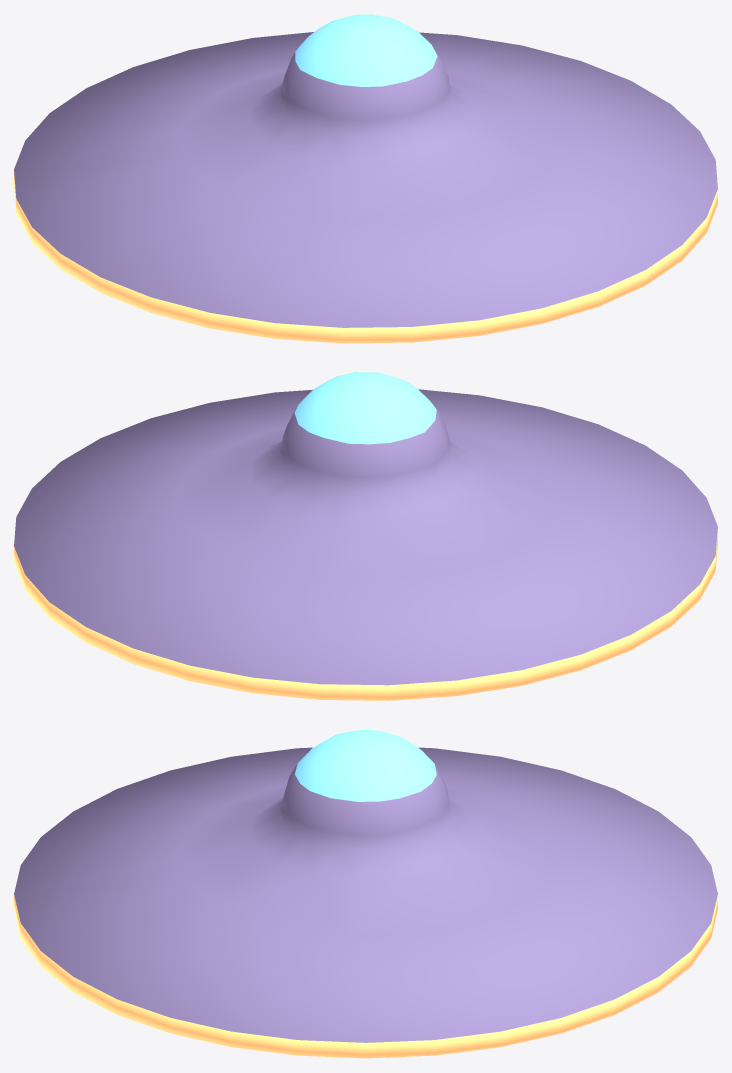
Rendered from RiftProbeLens.glb.
3 views of the same model, one above another, from view 1: azimuth 30°, elevation 25°; view 2: azimuth 150°, elevation 25°; view 3: azimuth 270°, elevation 25° (orthographic).
Parts seen in each view (by area): view 1: Circle; view 2: Circle; view 3: Circle.
Part boxes in pixels (left/top/right/bottom): Circle: left=14, top=14, right=717, bottom=343; Circle: left=14, top=372, right=717, bottom=700; Circle: left=14, top=729, right=717, bottom=1058.
Size of the model in its own units: 8.21 by 2.27 by 8.21.
